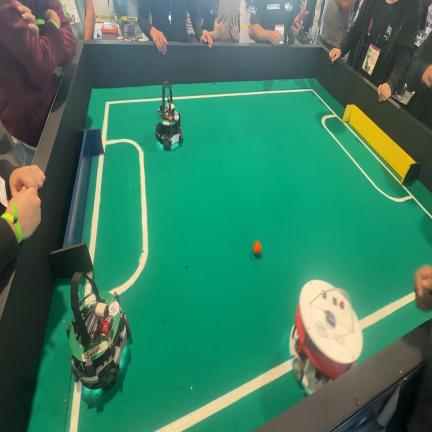cancha: (29, 80, 432, 432)
limites: (180, 88, 432, 220), (101, 98, 156, 294), (156, 360, 293, 432), (359, 293, 415, 330), (90, 156, 105, 258), (69, 383, 82, 432)
porteria: (49, 129, 104, 278), (342, 104, 419, 185)
robot: (289, 280, 363, 394), (65, 272, 131, 390), (156, 81, 182, 149)
